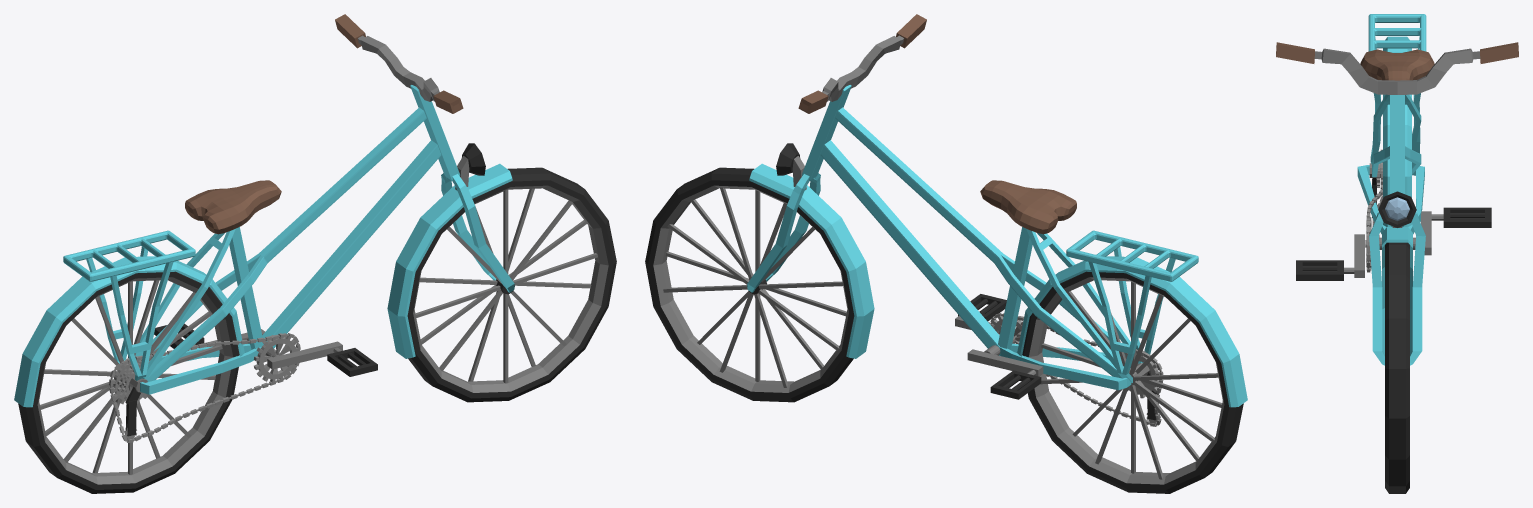
Rendered from bike.glb.
3 renders of one model, left to right at view 1: azimuth 30°, elevation 25°; view 2: azimuth 150°, elevation 25°; view 3: azimuth 270°, elevation 25°, orthographic. The views are drawn at different scales.
Parts seen in each view (by area): view 1: Cube.010; view 2: Cube.010; view 3: Cube.010.
Part boxes in pixels (x1,y1,x2,y2): Cube.010: (14, 14, 616, 493); Cube.010: (645, 14, 1247, 493); Cube.010: (1276, 14, 1518, 493).
Size of the model in its own units: 5.77 by 3.4 by 1.95.
